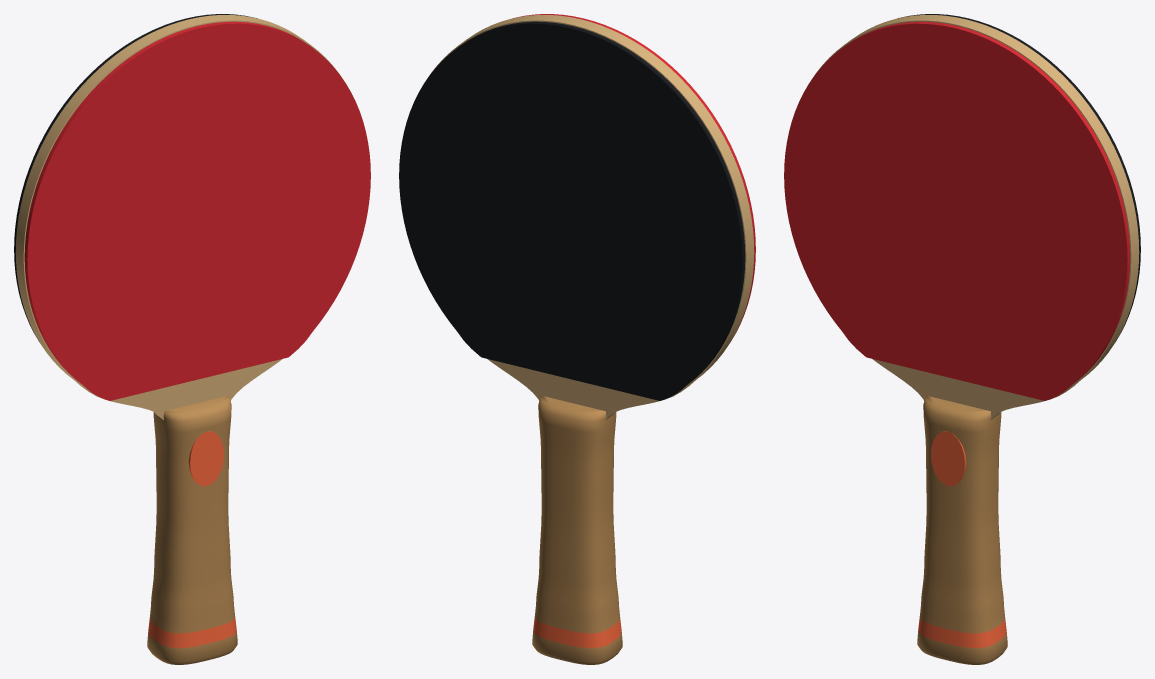
The model's file is paddle.glb.
The picture shows the model from 3 angles, left to right: view 1: azimuth 30°, elevation 25°; view 2: azimuth 150°, elevation 25°; view 3: azimuth 330°, elevation 25°; orthographic projection.
Visible parts, largest first — view 1: blade, handle; view 2: blade, handle; view 3: blade, handle.
Part boxes in pixels (x1,y1,x2,y2): blade: (14, 14, 370, 419); handle: (147, 395, 237, 664); blade: (399, 14, 755, 419); handle: (532, 395, 622, 664); blade: (784, 14, 1140, 419); handle: (917, 395, 1007, 664).
Size of the model in its own units: 0.152 by 0.2635 by 0.0256.
